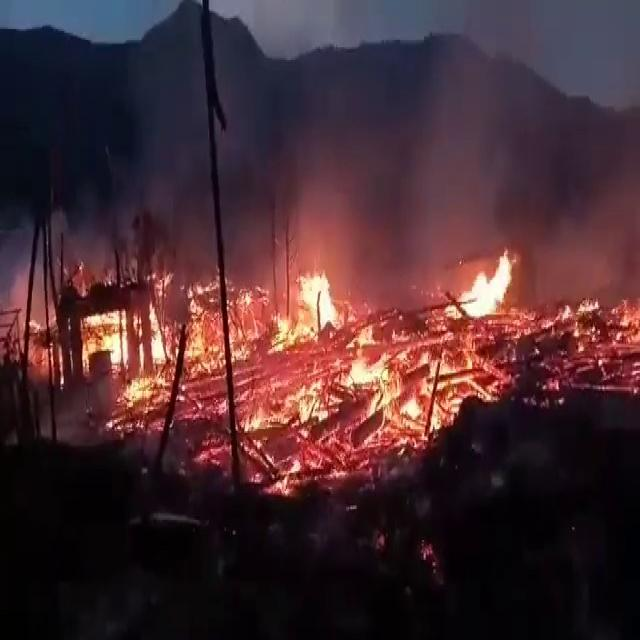Fire: (237, 304, 555, 491), (549, 298, 640, 389), (440, 249, 532, 320), (182, 289, 226, 422), (110, 347, 173, 431), (81, 311, 138, 387), (227, 287, 275, 365), (299, 273, 343, 335), (147, 289, 174, 376)
